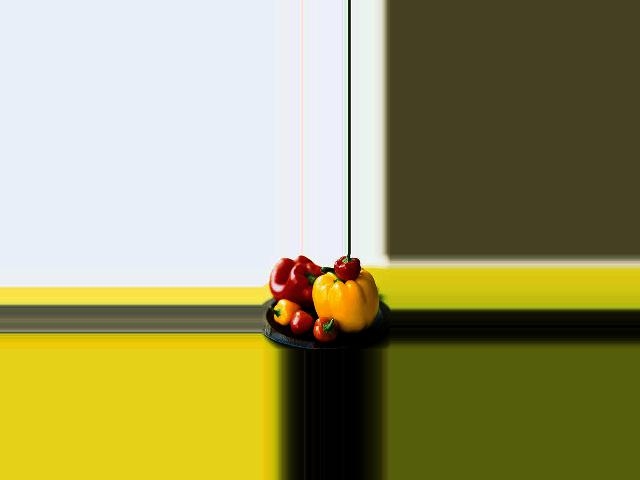bell_pepper: (270, 298, 298, 324)
